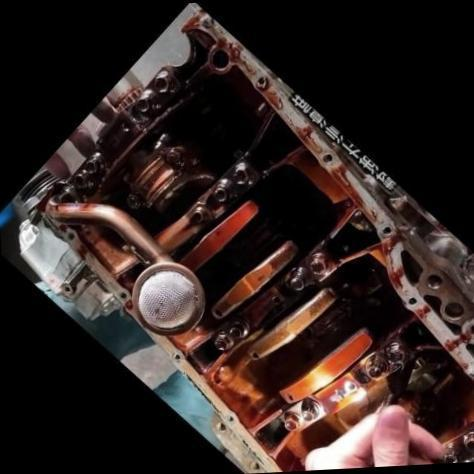hole: (58, 280, 76, 298), (320, 150, 336, 168), (254, 74, 270, 90), (405, 294, 420, 308), (380, 224, 394, 238), (170, 350, 184, 364), (64, 229, 78, 243), (225, 413, 237, 424), (118, 289, 128, 300)
